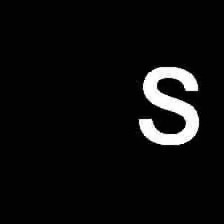LTR_S: (135, 58, 203, 149)
